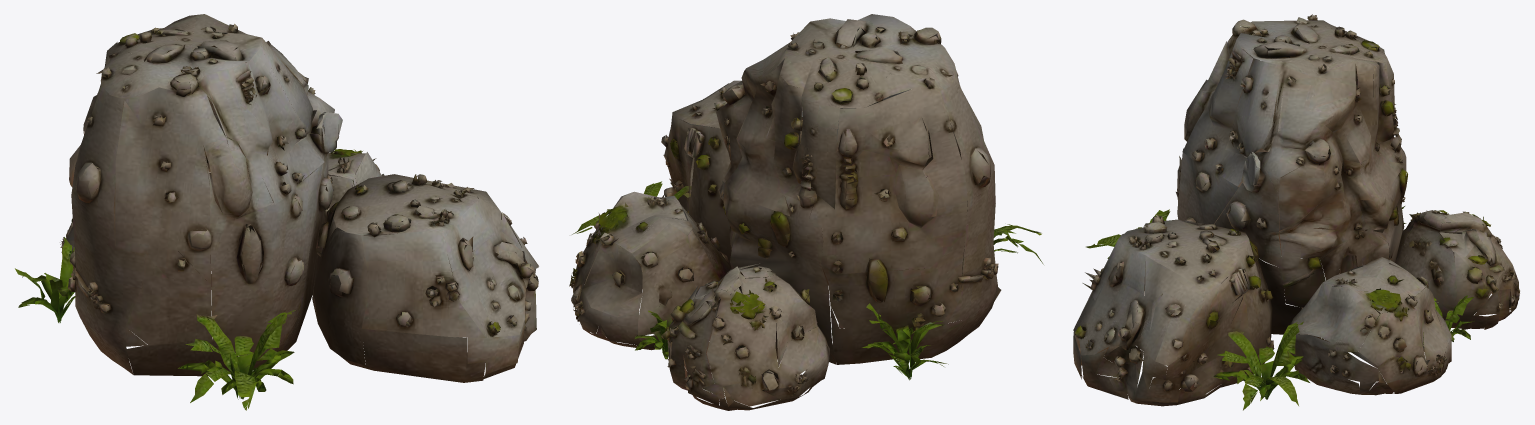
The model's file is jun_boulder_cluster_mossy_a_LOD1.glb.
The picture shows the model from 3 angles, left to right: view 1: azimuth 30°, elevation 25°; view 2: azimuth 150°, elevation 25°; view 3: azimuth 270°, elevation 25°; orthographic projection. The views are drawn at different scales.
Visible parts, largest first — view 1: tripo_node_2fa632b0-3145-4e0d-9542-0eff213807a1; view 2: tripo_node_2fa632b0-3145-4e0d-9542-0eff213807a1; view 3: tripo_node_2fa632b0-3145-4e0d-9542-0eff213807a1.
Part boxes in pixels (x1,y1,x2,y2): tripo_node_2fa632b0-3145-4e0d-9542-0eff213807a1: (15, 14, 538, 410); tripo_node_2fa632b0-3145-4e0d-9542-0eff213807a1: (569, 14, 1043, 410); tripo_node_2fa632b0-3145-4e0d-9542-0eff213807a1: (1073, 14, 1519, 410).
Size of the model in its own units: 0.9854 by 0.6468 by 1.
Materials: 1 (1 with a texture image).
